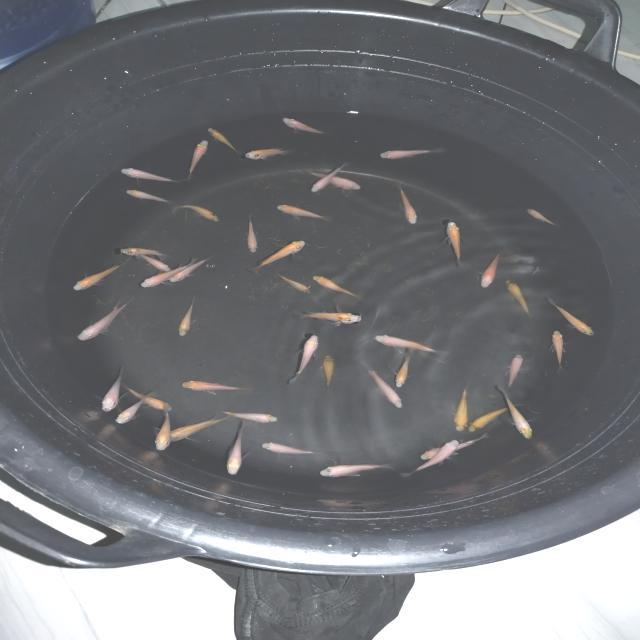nila: (491, 380, 538, 440), (404, 436, 460, 480), (547, 300, 600, 338), (163, 413, 229, 443), (252, 238, 306, 274), (360, 365, 406, 407), (414, 434, 488, 460), (74, 300, 122, 340), (372, 333, 446, 358), (466, 402, 522, 435), (287, 332, 321, 382), (298, 162, 348, 196), (112, 391, 159, 426), (223, 418, 249, 478), (66, 264, 121, 292), (123, 386, 176, 414), (316, 461, 390, 481), (135, 264, 191, 290), (99, 299, 132, 342), (305, 274, 359, 300), (167, 254, 213, 284), (150, 413, 182, 454), (504, 278, 536, 318), (308, 170, 366, 192), (180, 378, 250, 396), (95, 373, 126, 413), (118, 166, 178, 186), (298, 309, 364, 327), (186, 134, 210, 182), (276, 203, 336, 222), (272, 115, 326, 136), (392, 346, 418, 389), (450, 380, 470, 435), (244, 144, 289, 167), (166, 204, 222, 222), (272, 272, 314, 296), (396, 182, 418, 227), (120, 188, 172, 207), (258, 440, 316, 457), (204, 125, 238, 154), (371, 147, 439, 161), (221, 408, 284, 423), (446, 218, 464, 265), (479, 252, 501, 290), (174, 302, 197, 338), (548, 328, 566, 372), (318, 351, 337, 392), (134, 252, 172, 272), (508, 352, 526, 388), (524, 208, 556, 227), (244, 214, 259, 252), (120, 246, 168, 256)
